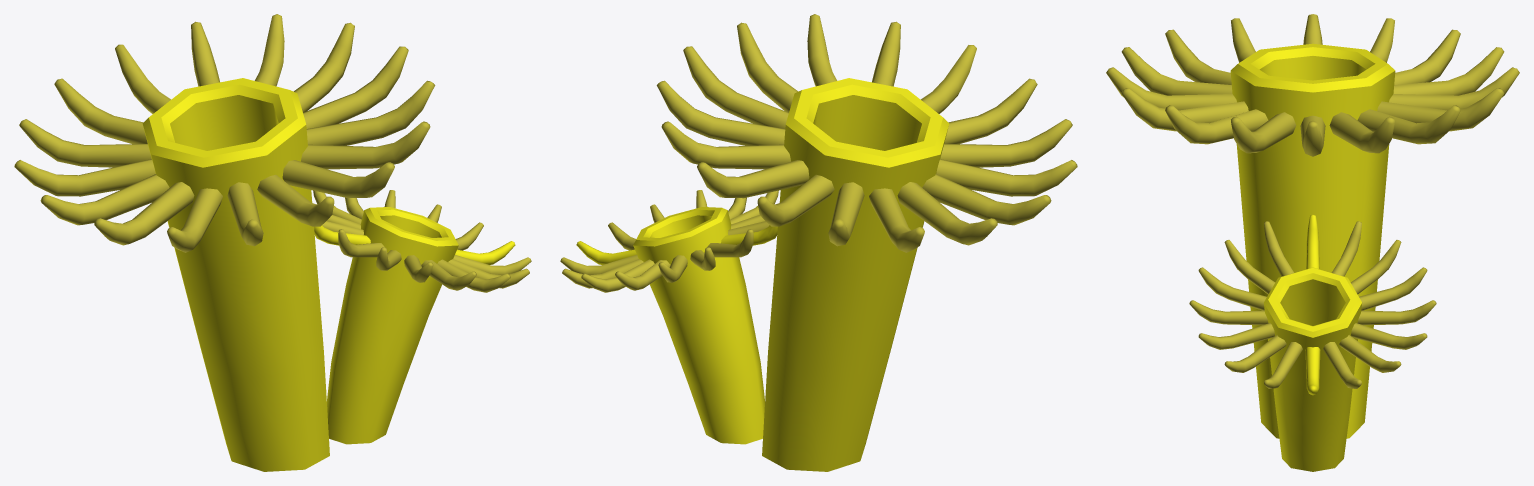
Rendered from Sea_plant_4_1.002.fbx.
3 renders of one model, left to right at view 1: azimuth 30°, elevation 25°; view 2: azimuth 150°, elevation 25°; view 3: azimuth 270°, elevation 25°, orthographic. The views are drawn at different scales.
Parts seen in each view (by area): view 1: Sea_plant_4_1.002; view 2: Sea_plant_4_1.002; view 3: Sea_plant_4_1.002.
Boxes of the visible parts, x1,y1,x2,y2 form: Sea_plant_4_1.002: (14,14,531,471); Sea_plant_4_1.002: (560,14,1077,471); Sea_plant_4_1.002: (1106,14,1519,471).
Bounding box in the file's own units: 1.16 × 0.873 × 0.9111.
